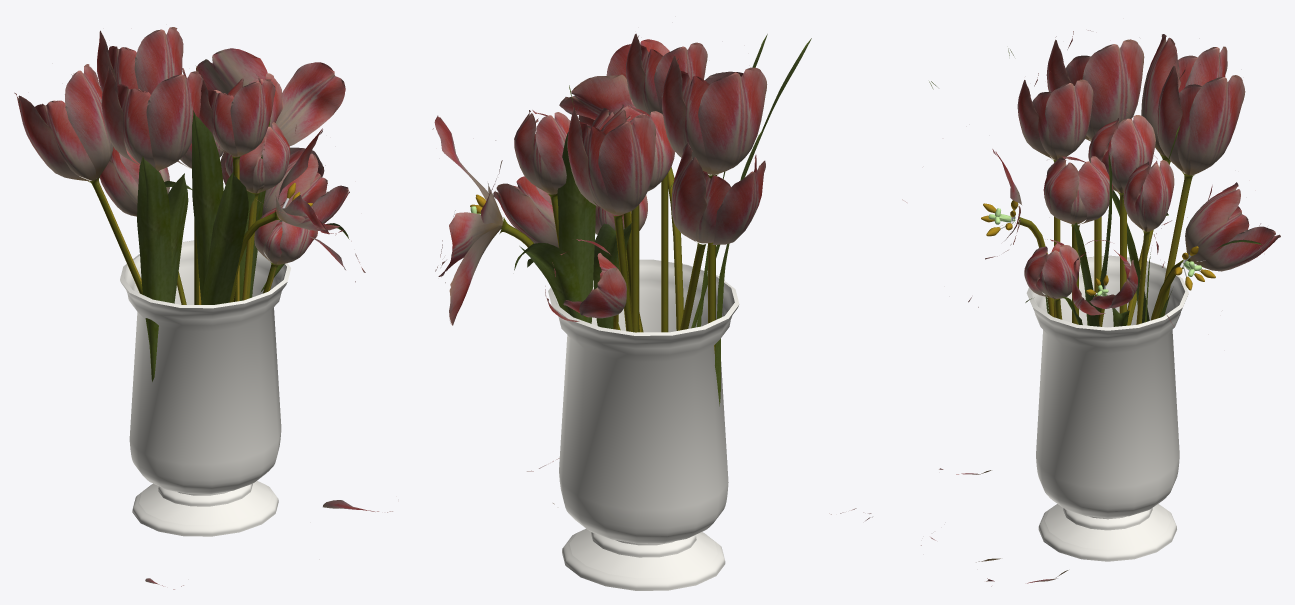
Rendered from tulipy.glb.
3 renders of one model, left to right at view 1: azimuth 30°, elevation 25°; view 2: azimuth 150°, elevation 25°; view 3: azimuth 270°, elevation 25°, orthographic. The views are drawn at different scales.
Visible parts, largest first — view 1: Line104, lisc006, Line131, lisc009, Line203, lisc008, Line266, Line175, Line124, Line202, Line130, Line265 (+21 smaller); view 2: Line104, Line128, Line121, lisc005, Line262, Line263, Line149, lisc003, Line249, Line289, Line127, Line226 (+23 smaller); view 3: Line104, Line127, Line125, Line171, Line198, Line266, Line230, Line124, Line227, Line225, Line284, Line224 (+19 smaller).
Boxes of the visible parts, box(x1,y1,x2,y2) form: Line104: box(120, 240, 290, 536); lisc006: box(137, 156, 171, 381); Line131: box(146, 71, 203, 170); lisc009: box(201, 172, 248, 304); Line203: box(276, 62, 345, 145); lisc008: box(192, 110, 223, 302); Line266: box(65, 64, 113, 178); Line175: box(230, 79, 275, 156); Line124: box(134, 27, 183, 94); Line202: box(196, 48, 267, 93); Line130: box(117, 84, 155, 168); Line265: box(35, 100, 96, 180); Line104: box(548, 259, 739, 590); Line128: box(698, 67, 766, 175); Line121: box(598, 115, 655, 215); lisc005: box(557, 132, 595, 323); Line262: box(671, 142, 706, 241); Line263: box(712, 160, 765, 244); Line149: box(559, 74, 632, 119); lisc003: box(514, 243, 583, 320); Line249: box(493, 183, 558, 247); Line289: box(535, 112, 570, 194); Line127: box(661, 53, 686, 157); Line226: box(579, 268, 626, 318); Line104: box(1026, 255, 1188, 561); Line127: box(1082, 39, 1144, 133); Line125: box(1189, 75, 1245, 175); Line171: box(1045, 79, 1093, 159); Line198: box(1111, 115, 1155, 192); Line266: box(1141, 34, 1180, 155); Line230: box(1194, 226, 1280, 271); Line124: box(1157, 62, 1184, 173); Line227: box(1185, 182, 1240, 254); Line225: box(1043, 157, 1079, 224); Line284: box(1143, 160, 1174, 231); Line224: box(1078, 156, 1112, 224).
Size of the model in its own units: 3.63 by 5.2 by 3.79.
75 materials, 4 textured.
